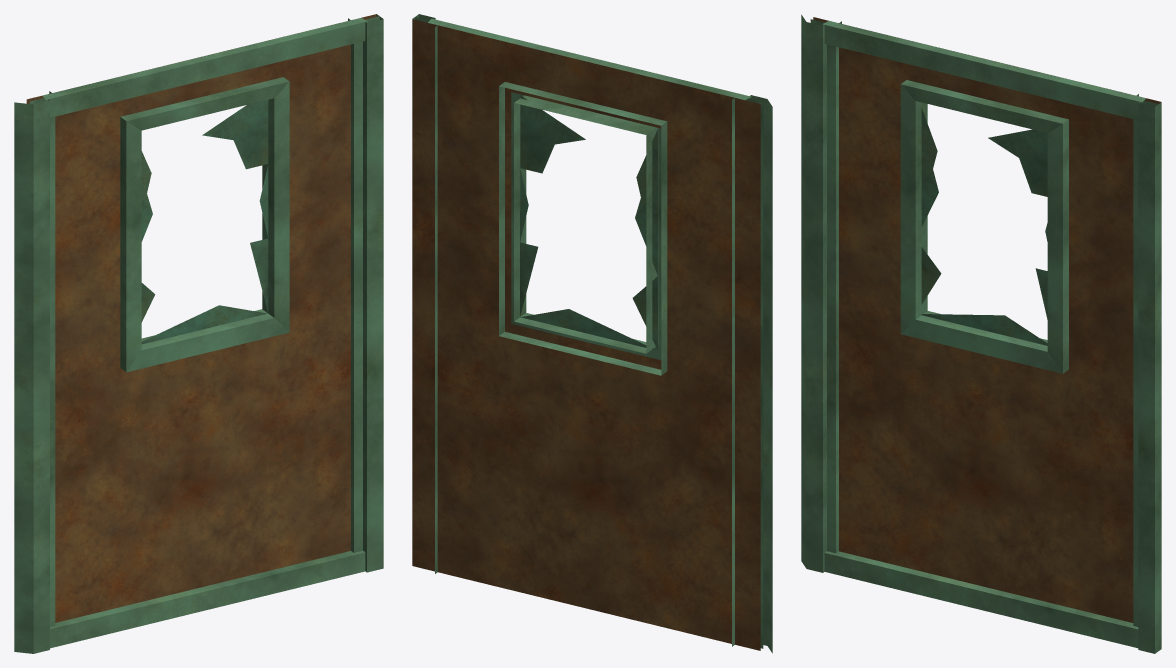
Rendered from Wall2_UpperDeck_Corner1.FBX.
3 renders of one model, left to right at view 1: azimuth 30°, elevation 25°; view 2: azimuth 150°, elevation 25°; view 3: azimuth 330°, elevation 25°, orthographic.
Parts seen in each view (by area): view 1: UpperDeck_Cornerpiece1; view 2: UpperDeck_Cornerpiece1; view 3: UpperDeck_Cornerpiece1.
Boxes of the visible parts, x1=… form: UpperDeck_Cornerpiece1: x1=14, y1=14, x2=383, y2=653; UpperDeck_Cornerpiece1: x1=412, y1=14, x2=772, y2=653; UpperDeck_Cornerpiece1: x1=801, y1=14, x2=1161, y2=653.
Bounding box in the file's own units: 207 × 300 × 12.84.
